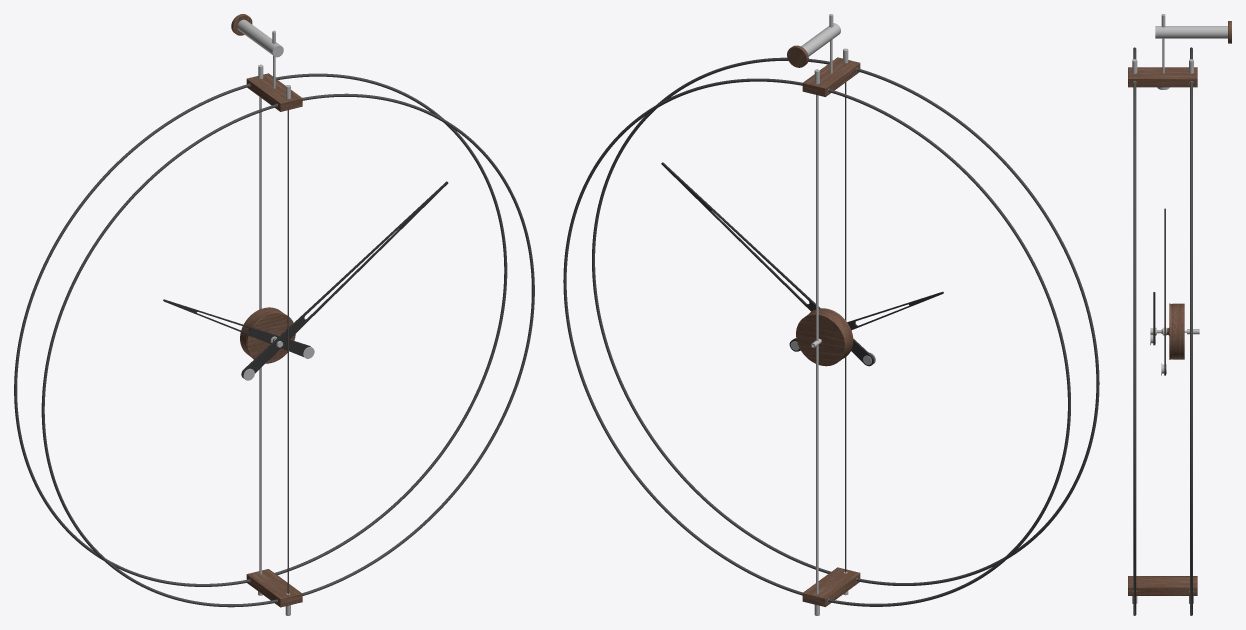
3 renders of one model, left to right at view 1: azimuth 30°, elevation 25°; view 2: azimuth 150°, elevation 25°; view 3: azimuth 270°, elevation 25°, orthographic. The views are drawn at different scales.
Visible parts, largest first — view 1: 8082; view 2: 8082; view 3: 8082.
Part boxes in pixels (box(x1,y1,x2,y2)): 8082: box(14, 14, 534, 615); 8082: box(563, 14, 1099, 615); 8082: box(1128, 14, 1231, 615).
Size of the model in its own units: 0.8999 by 1 by 0.16.
1 material, 1 textured.
